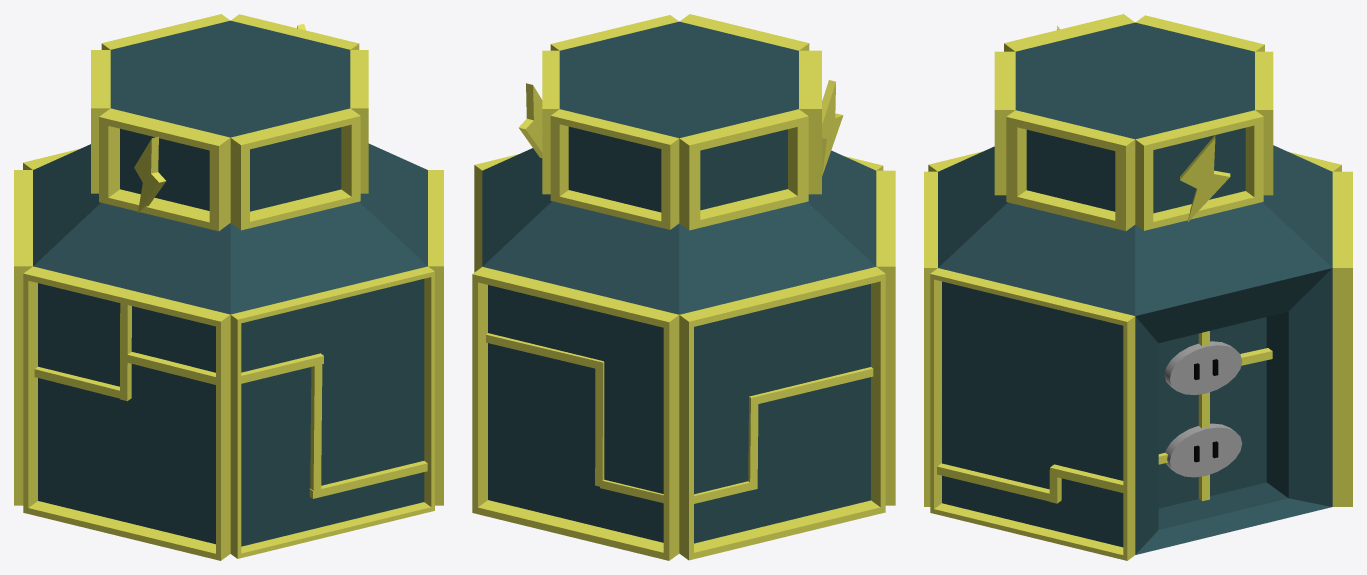
The model's file is Housev4_Small.fbx.
The picture shows the model from 3 angles, left to right: view 1: azimuth 30°, elevation 25°; view 2: azimuth 150°, elevation 25°; view 3: azimuth 270°, elevation 25°; orthographic projection.
Parts seen in each view (by area): view 1: CharlesSmallHouse, pCube14, pCube12, pCylinder3, pCube19, pCube18, pCube20, pCube13; view 2: CharlesSmallHouse, pCube16, pCube8, pCube6, pCylinder3, pCylinder2, pCube17, pCube15, pCube7; view 3: CharlesSmallHouse, plugbase3, plugbase2, pCylinder2, pCube11, pCube9, pCube1.
Part boxes in pixels (x1=…): CharlesSmallHouse: x1=14, y1=14, x2=443, y2=560; pCube14: x1=310, y1=358, x2=322, y2=496; pCube12: x1=309, y1=461, x2=427, y2=498; pCylinder3: x1=134, y1=136, x2=165, y2=212; pCube19: x1=120, y1=352, x2=215, y2=384; pCube18: x1=34, y1=366, x2=125, y2=399; pCube20: x1=120, y1=303, x2=131, y2=401; pCube13: x1=241, y1=353, x2=323, y2=383; CharlesSmallHouse: x1=472, y1=14, x2=895, y2=560; pCube16: x1=749, y1=367, x2=873, y2=405; pCube8: x1=595, y1=361, x2=604, y2=487; pCube6: x1=486, y1=333, x2=603, y2=370; pCylinder3: x1=822, y1=80, x2=843, y2=176; pCylinder2: x1=518, y1=83, x2=542, y2=157; pCube17: x1=748, y1=397, x2=758, y2=490; pCube15: x1=694, y1=481, x2=757, y2=503; pCube7: x1=600, y1=479, x2=663, y2=503; CharlesSmallHouse: x1=924, y1=14, x2=1352, y2=560; plugbase3: x1=1164, y1=341, x2=1242, y2=395; plugbase2: x1=1165, y1=423, x2=1242, y2=477; pCylinder2: x1=1180, y1=135, x2=1230, y2=221; pCube11: x1=937, y1=463, x2=1049, y2=501; pCube9: x1=1050, y1=464, x2=1123, y2=492; pCube1: x1=1198, y1=331, x2=1209, y2=501.
Size of the model in its own units: 11.59 by 9.95 by 10.23.
